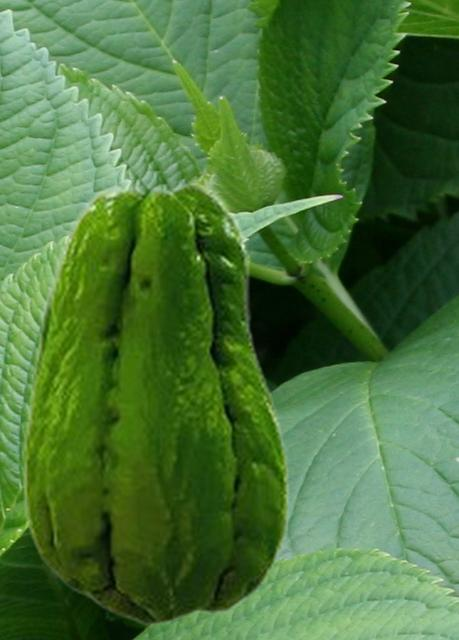sayote: (22, 180, 289, 626)
